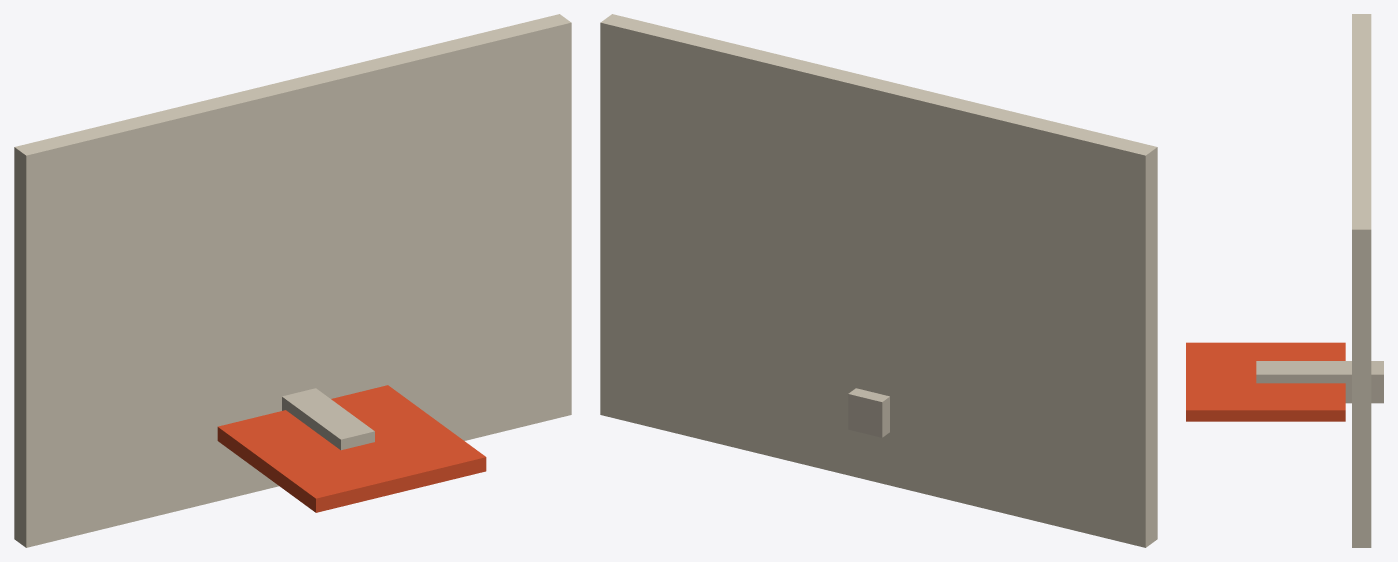
The model's file is gym_hoop.glb.
3 views of the same model, side by side, from view 1: azimuth 30°, elevation 25°; view 2: azimuth 150°, elevation 25°; view 3: azimuth 270°, elevation 25° (orthographic). The views are drawn at different scales.
Visible parts, largest first — view 1: Box1, Box2, Box3; view 2: Box1, Box3; view 3: Box2, Box1, Box3.
Boxes of the visible parts, x1,y1,x2,y2 form: Box1: (14,14,571,547); Box2: (217,385,486,512); Box3: (282,388,374,450); Box1: (600,14,1157,547); Box3: (848,388,889,437); Box2: (1186,342,1345,421); Box1: (1352,14,1371,547); Box3: (1256,361,1383,403).
Size of the model in its own units: 1.6 by 1.1 by 0.62.
